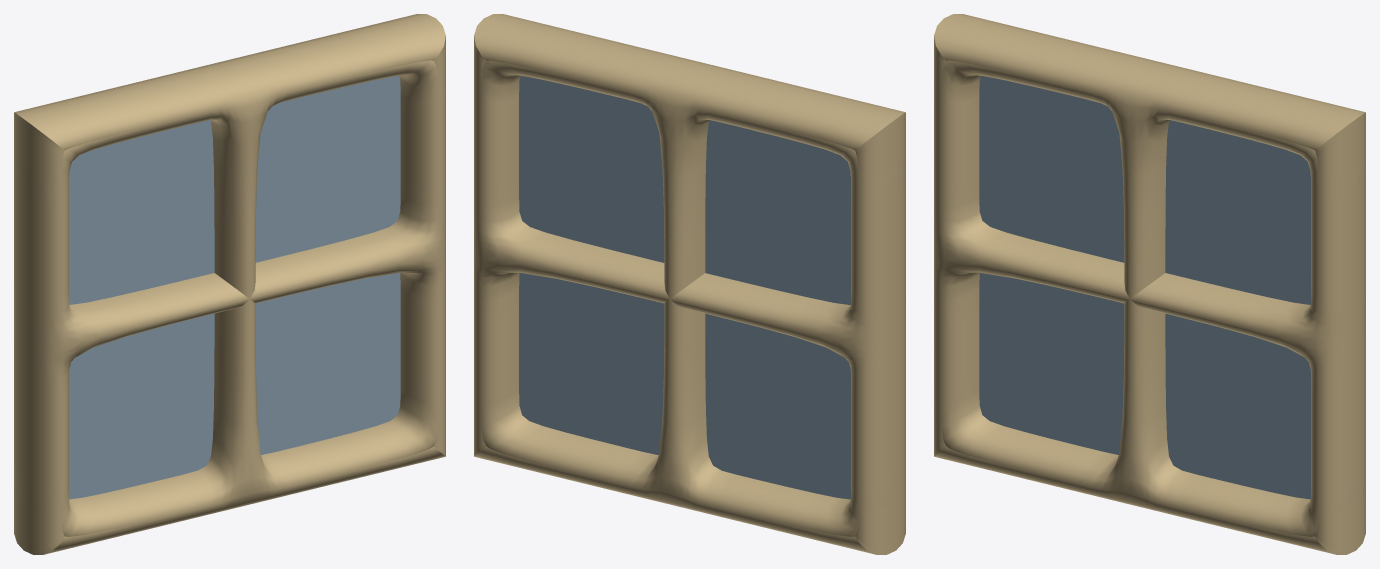
File: Ventana.fbx
3 views of the same model, side by side, from view 1: azimuth 30°, elevation 25°; view 2: azimuth 150°, elevation 25°; view 3: azimuth 330°, elevation 25° (orthographic).
Visible parts, largest first — view 1: ventana; view 2: ventana; view 3: ventana.
Part boxes in pixels (x1,y1,x2,y2): ventana: (14,14,445,554); ventana: (474,14,905,554); ventana: (934,14,1365,554).
Bounding box in the file's own units: 0.3384 × 0.0599 × 0.3384.
